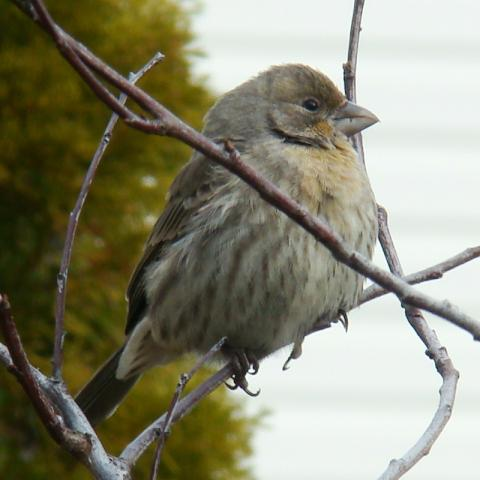bird: (70, 60, 382, 428)
